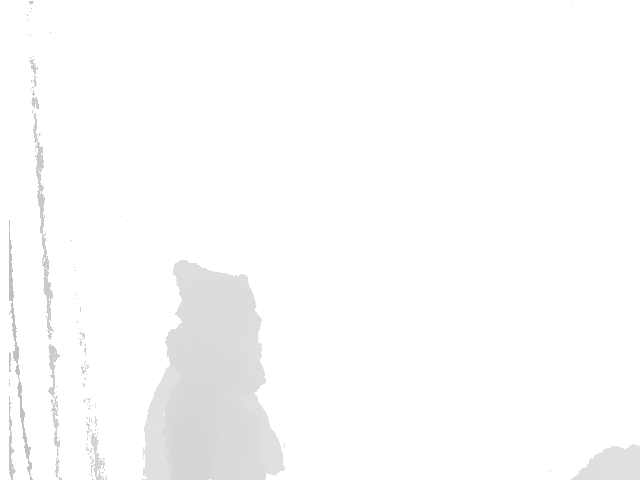head: (167, 260, 263, 358)
person: (141, 260, 286, 480)
